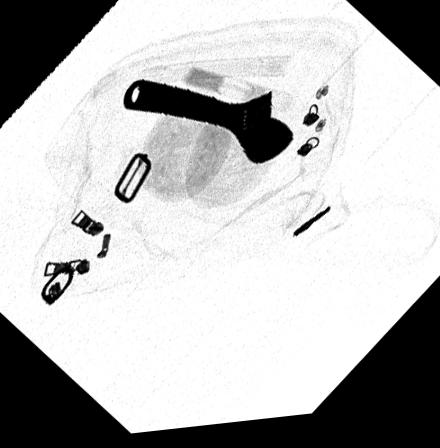Wrench: (120, 80, 295, 170)
